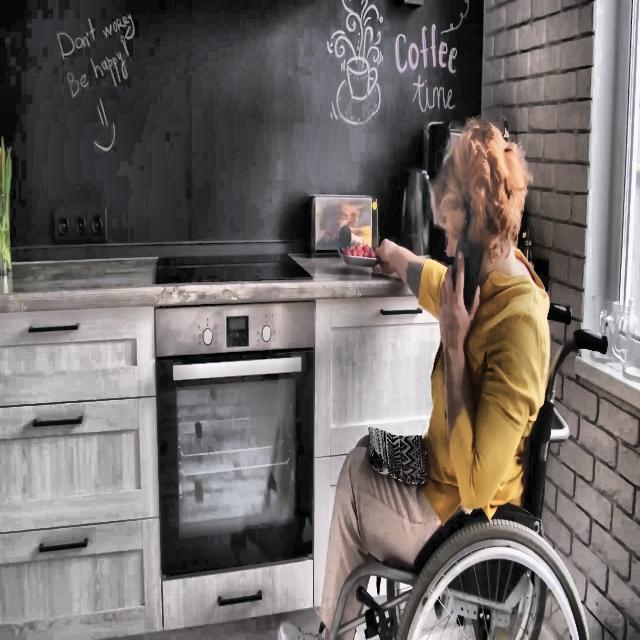Phone: (450, 209, 486, 312)
